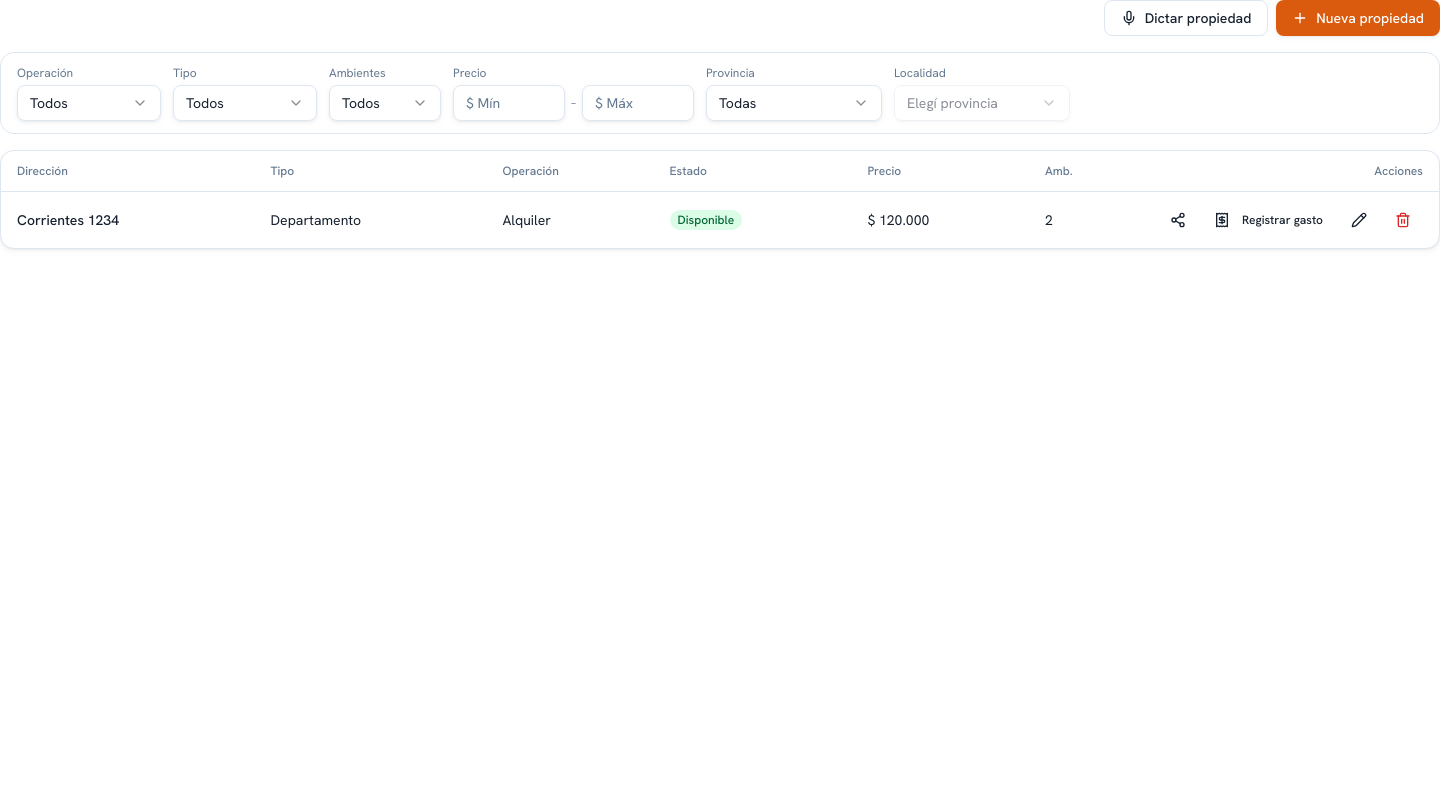
Test: PropertiesList — Edit row action › clicking Editar opens the form dialog prefilled with the property address
Click the button named "editar". click: click(1359, 220)
box: x1=1339 y1=204 x2=1379 y2=236
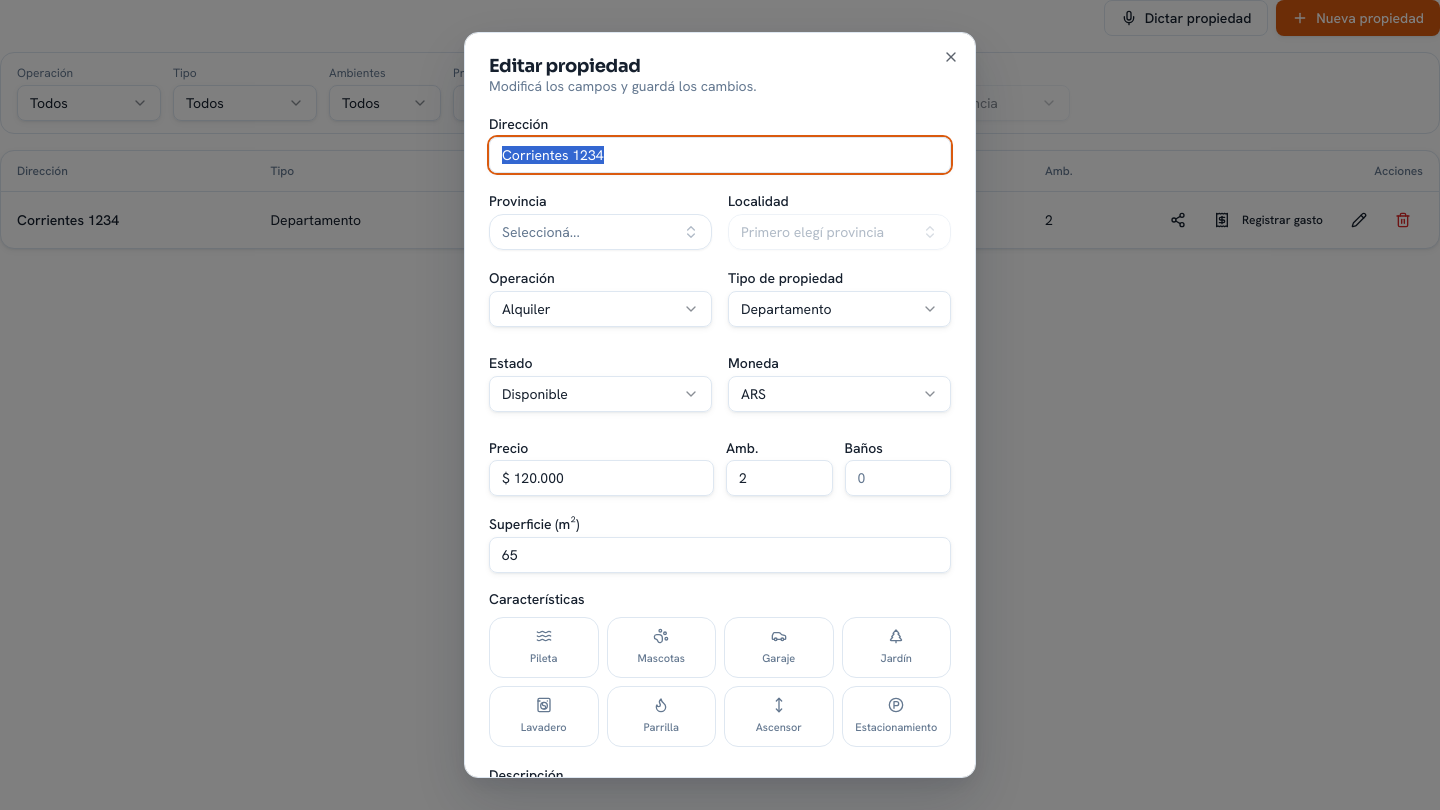
Result: the field labelled "Dirección" holds "Corrientes 1234" at x1=489 y1=137 x2=951 y2=173
